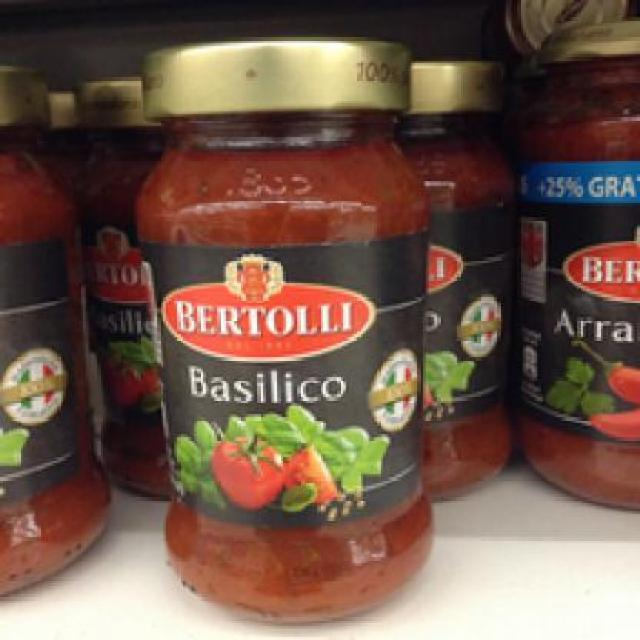Tomato Sauce: (126, 26, 434, 620), (508, 20, 638, 506)
